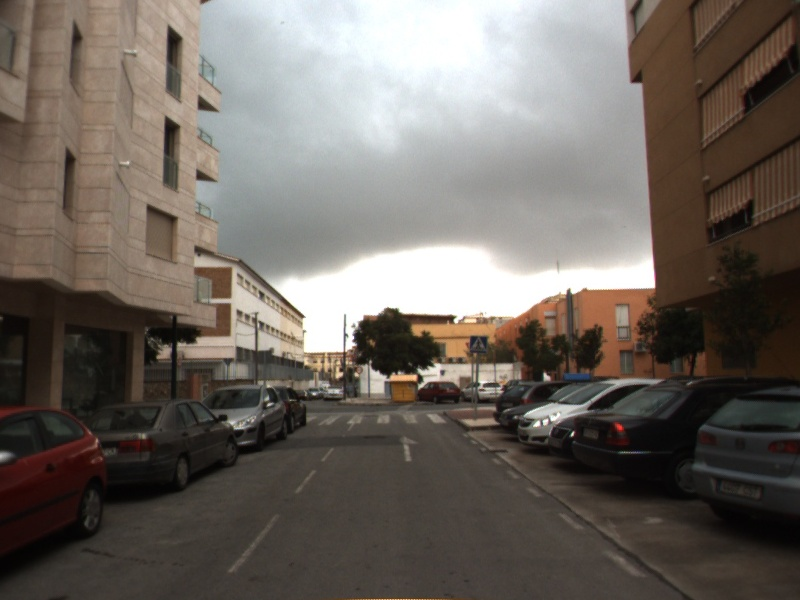STRAIGHT: (396, 433, 422, 463)
